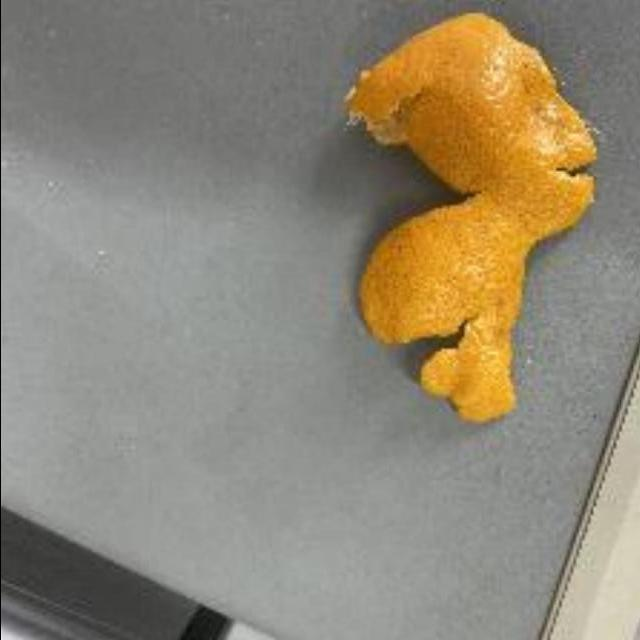orange peel: (340, 14, 590, 424)
